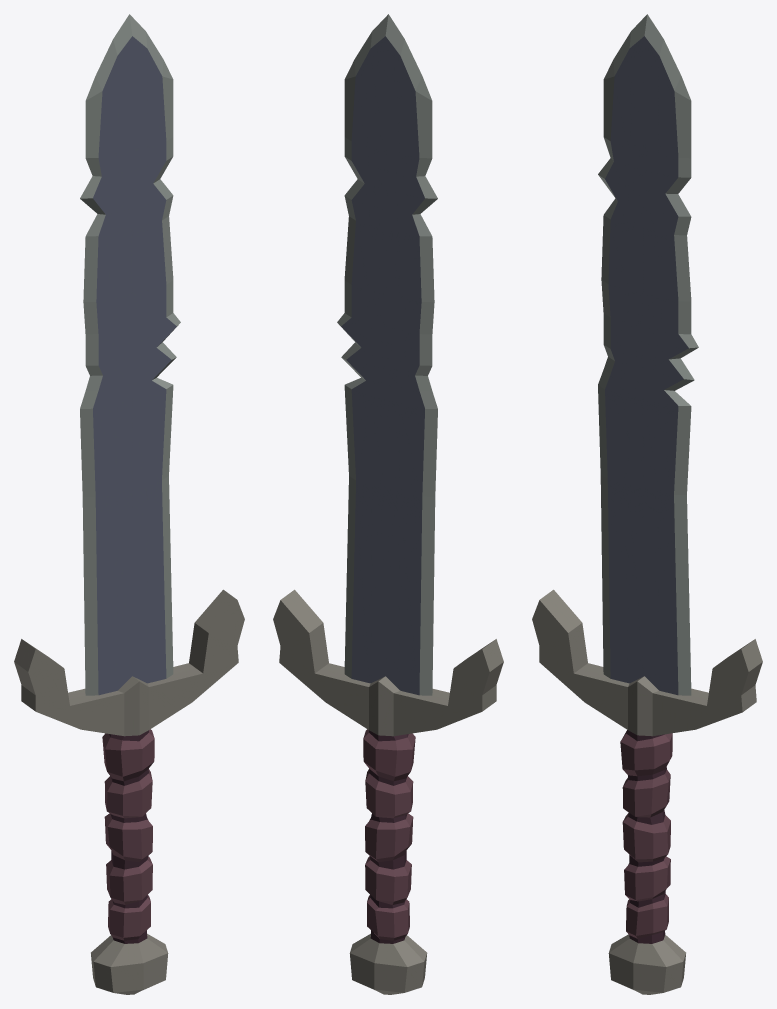
Rendered from Sword by Quaternius - 9lLmH8Et4K-transformed.glb.
The picture shows the model from 3 angles, left to right: view 1: azimuth 30°, elevation 25°; view 2: azimuth 150°, elevation 25°; view 3: azimuth 330°, elevation 25°; orthographic projection.
Parts seen in each view (by area): view 1: Sword; view 2: Sword; view 3: Sword.
Part boxes in pixels (x1=…): Sword: x1=14, y1=14, x2=244, y2=994; Sword: x1=273, y1=14, x2=503, y2=994; Sword: x1=532, y1=14, x2=762, y2=994.
Size of the model in its own units: 0.5344 by 2.3 by 0.1221.
1 material, 1 textured.
